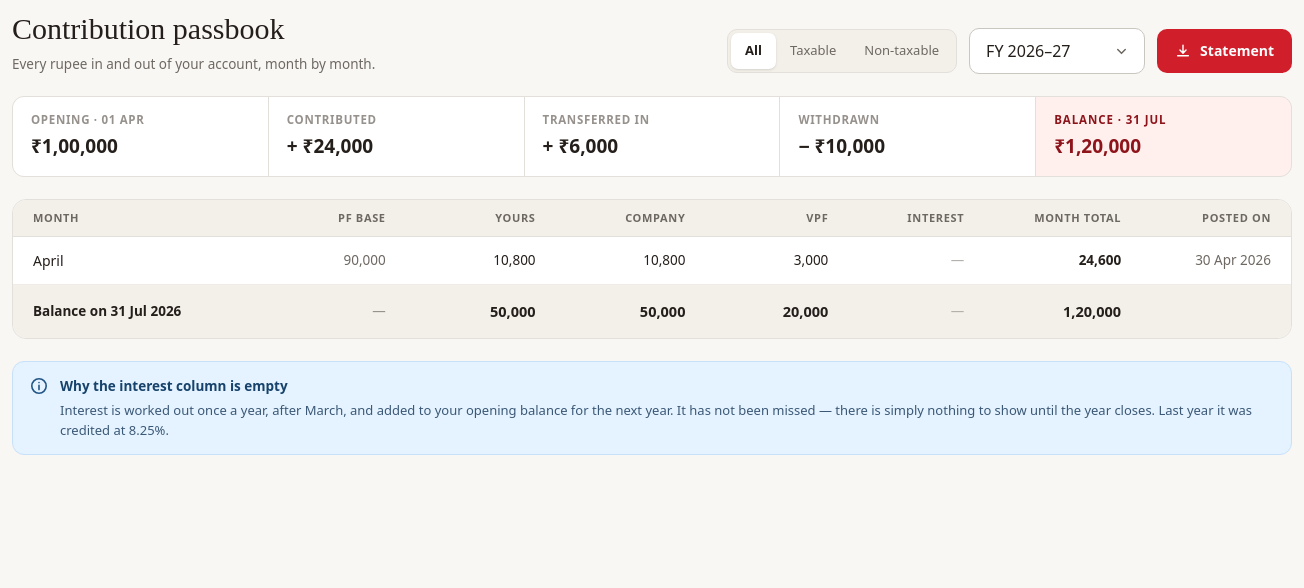
Scenario: PassbookView taxable filter › shows the non-taxable half, which is a different half again
Click the tab "Taxable" at (813, 51), box [776,33,850,68]
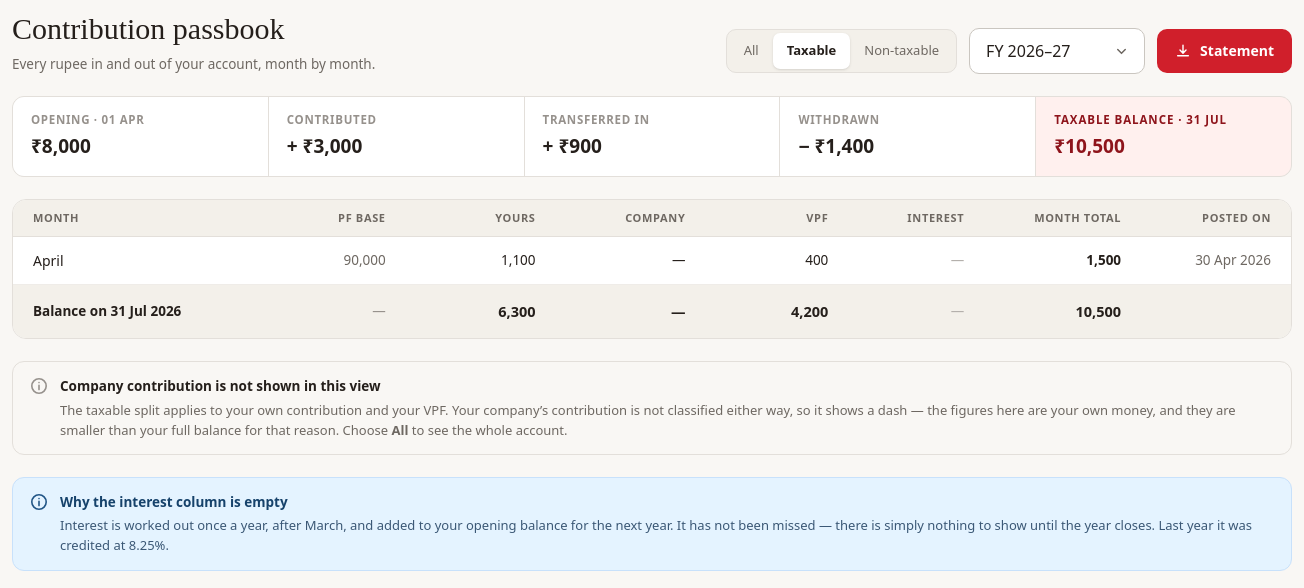
Click the tab "Non-taxable" at (902, 51), box [850,33,953,68]
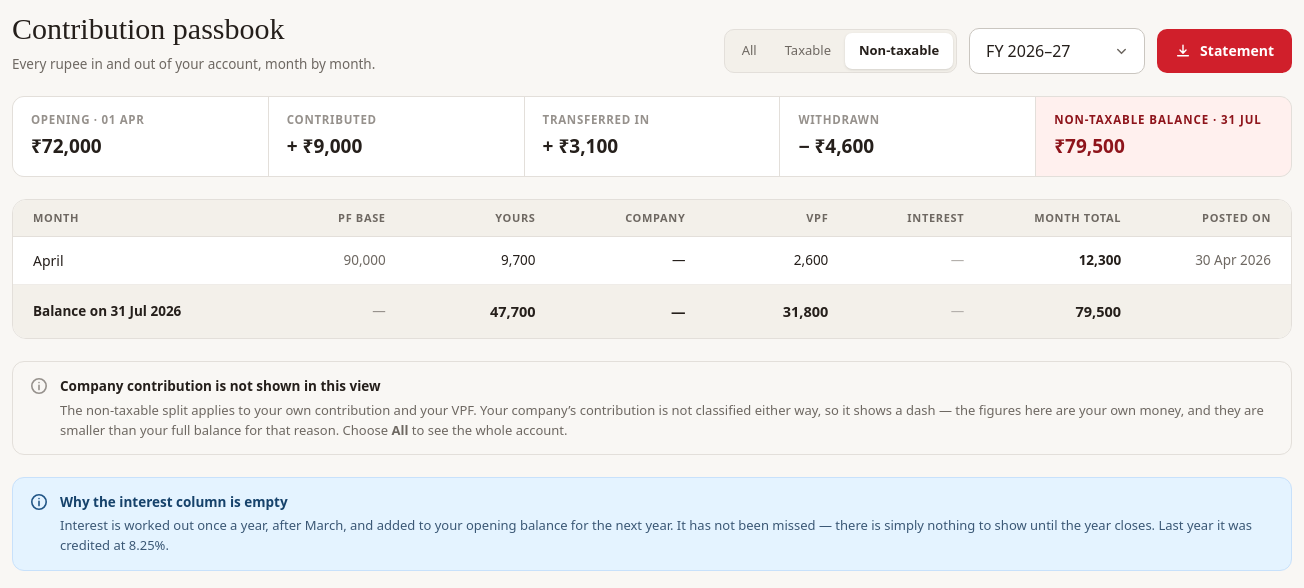
Check: the text "79,500" is shown, box [1054,133,1125,159]
Check: the text "12,300" is shown, box [1079,252,1121,270]
Check: the text "10,500" is gone
